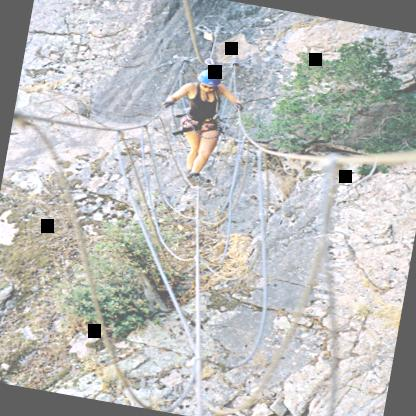helmet: (194, 68, 224, 96)
